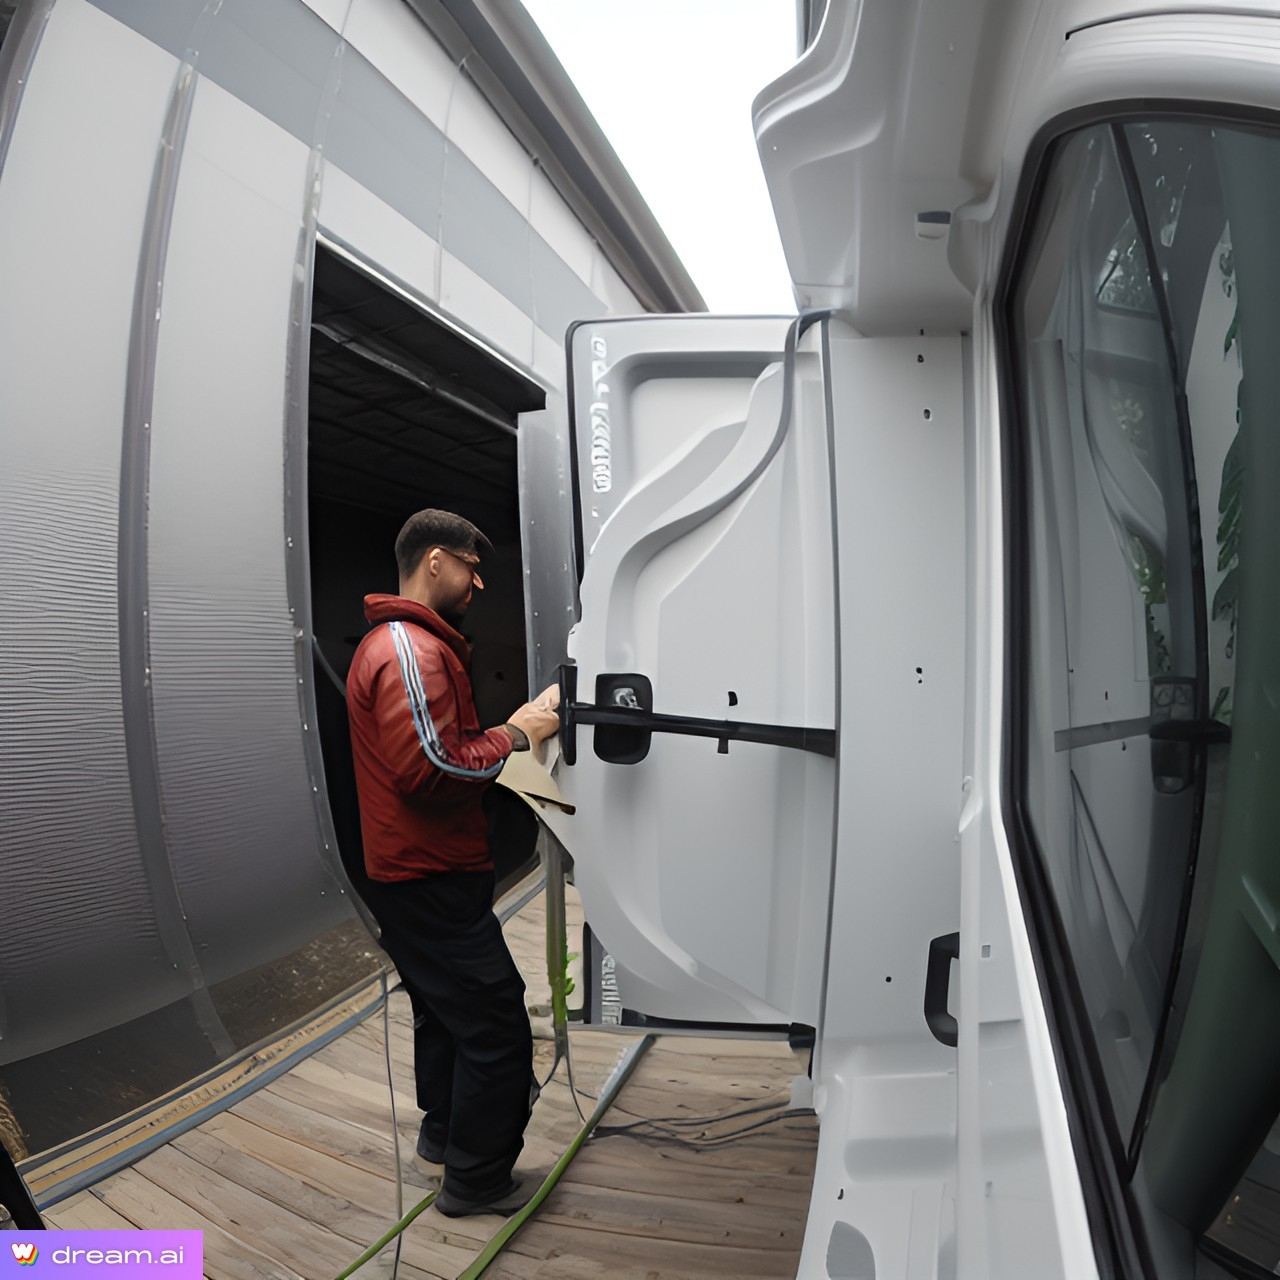door_front: (517, 297, 857, 1056)
